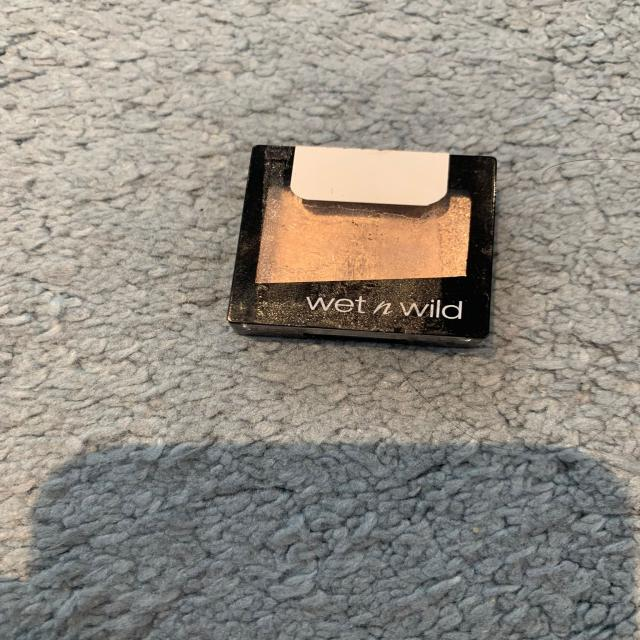powder: (238, 135, 492, 371)
